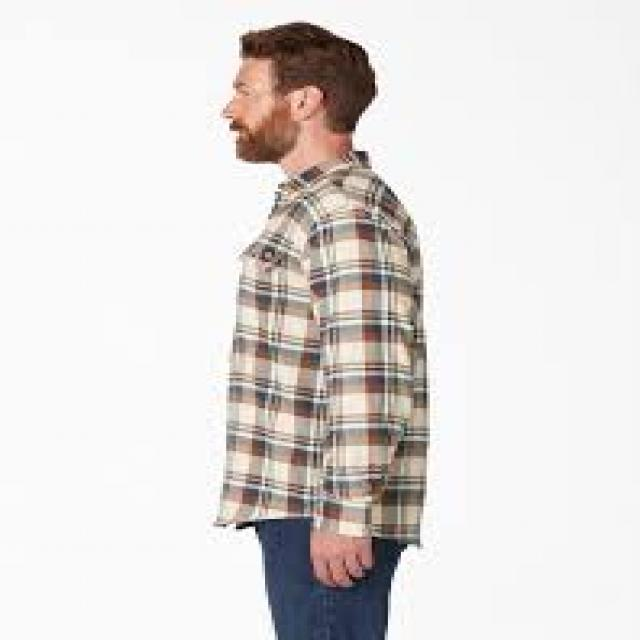plaid: (202, 161, 432, 542)
